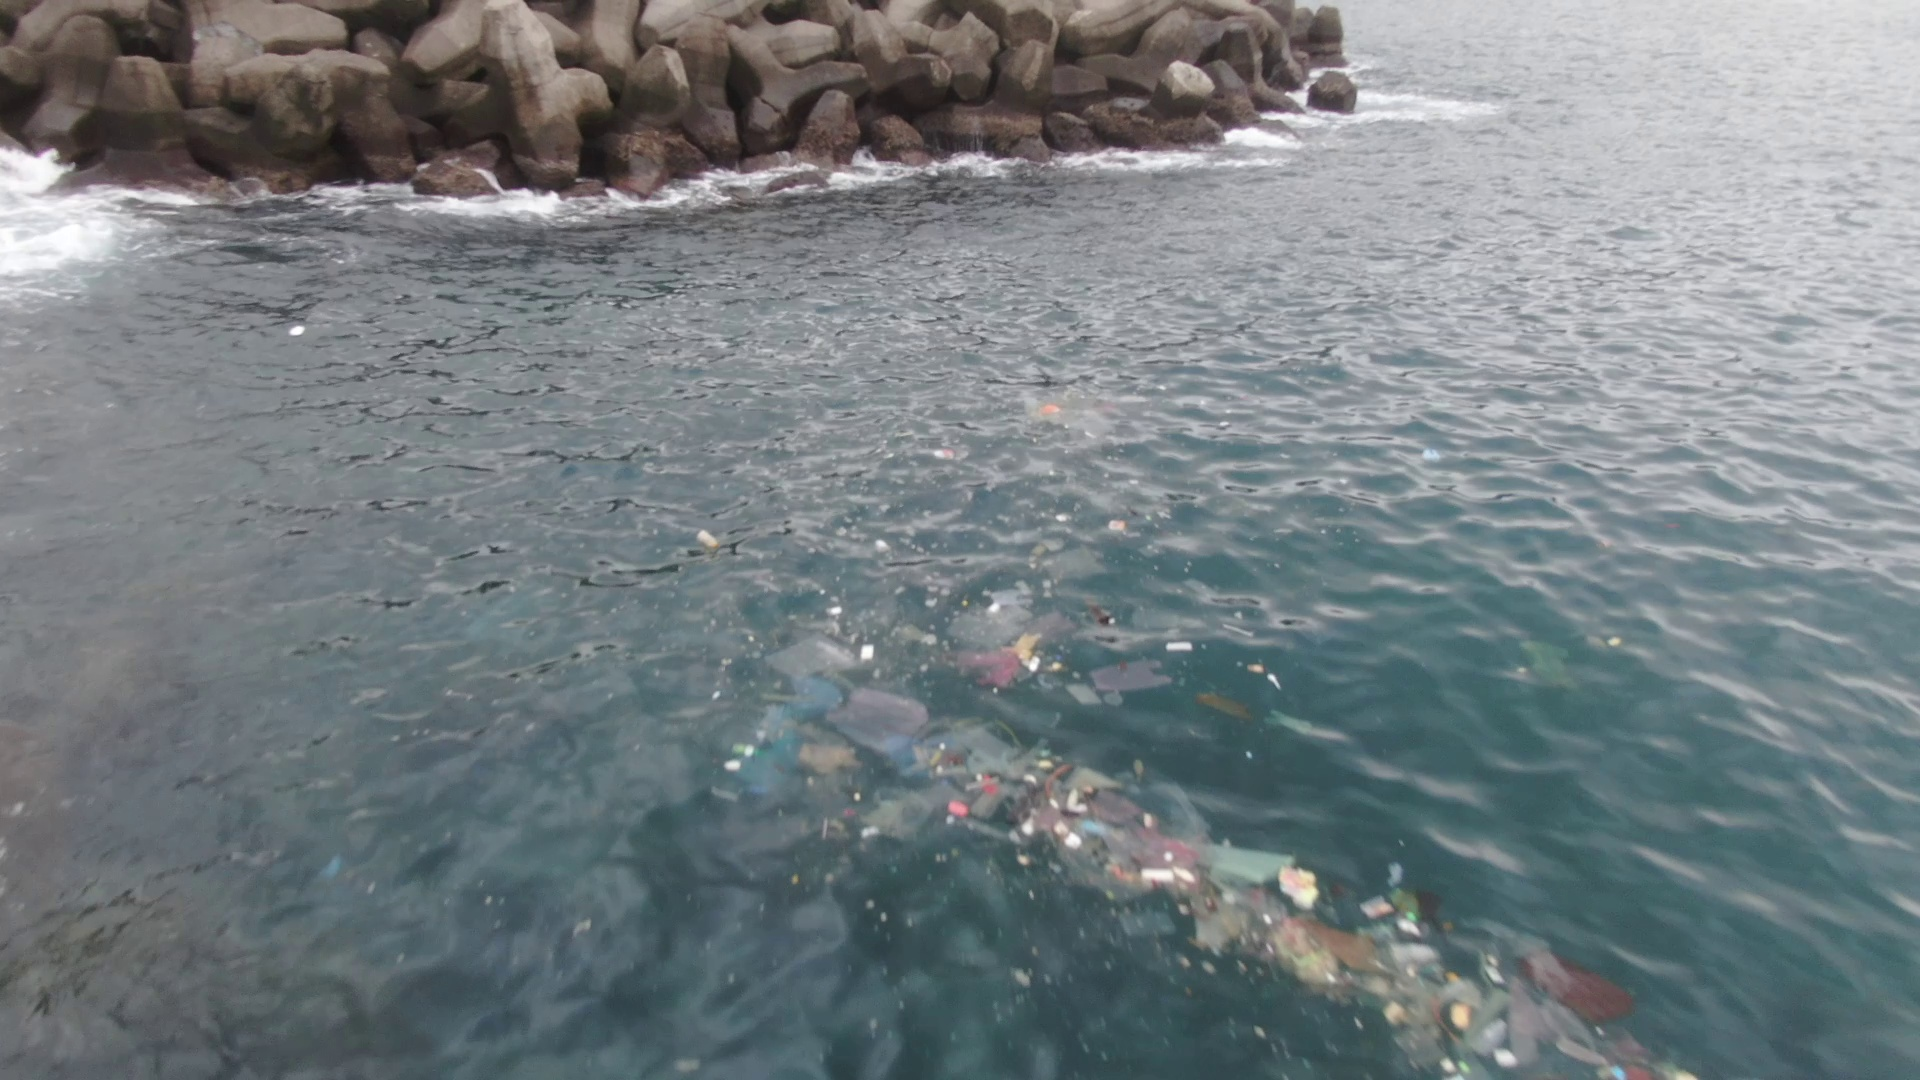garbage: (761, 629, 1687, 1080)
